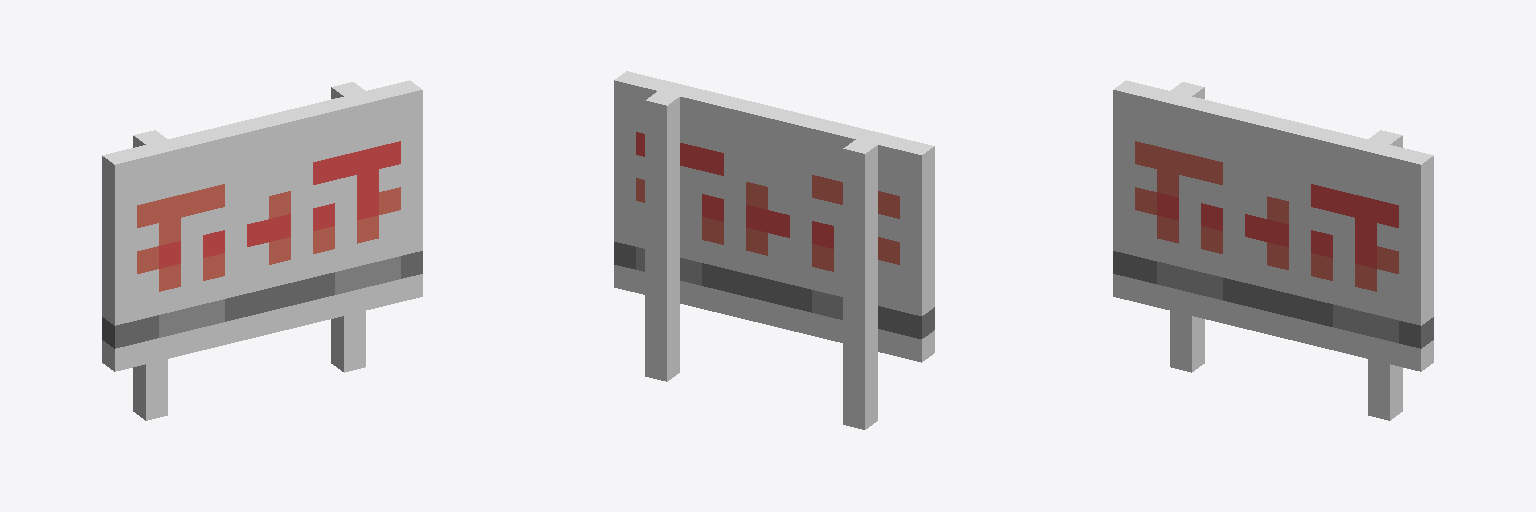
3 renders of one model, left to right at view 1: azimuth 30°, elevation 25°; view 2: azimuth 150°, elevation 25°; view 3: azimuth 330°, elevation 25°, orthographic.
Parts seen in each view (by area): view 1: LetreroPlastico; view 2: LetreroPlastico; view 3: LetreroPlastico.
Boxes of the visible parts, x1,y1,x2,y2 form: LetreroPlastico: [102, 80, 422, 420]; LetreroPlastico: [614, 71, 934, 429]; LetreroPlastico: [1113, 80, 1433, 420].
Size of the model in its own units: 1.4 by 1.2 by 0.2.
1 materials, 1 textured.